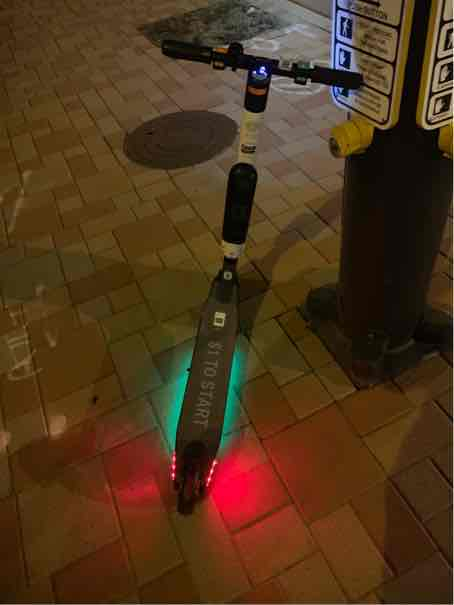scooter: (152, 25, 371, 517)
